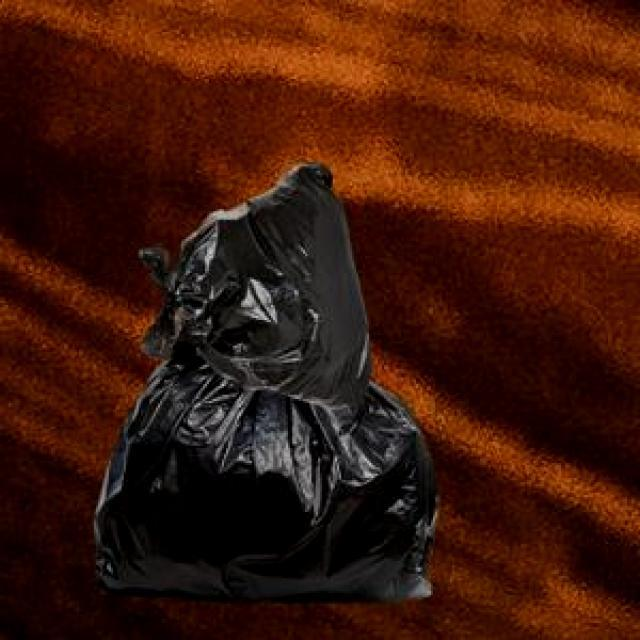Trashbag: (90, 395, 440, 610), (136, 145, 380, 412)
